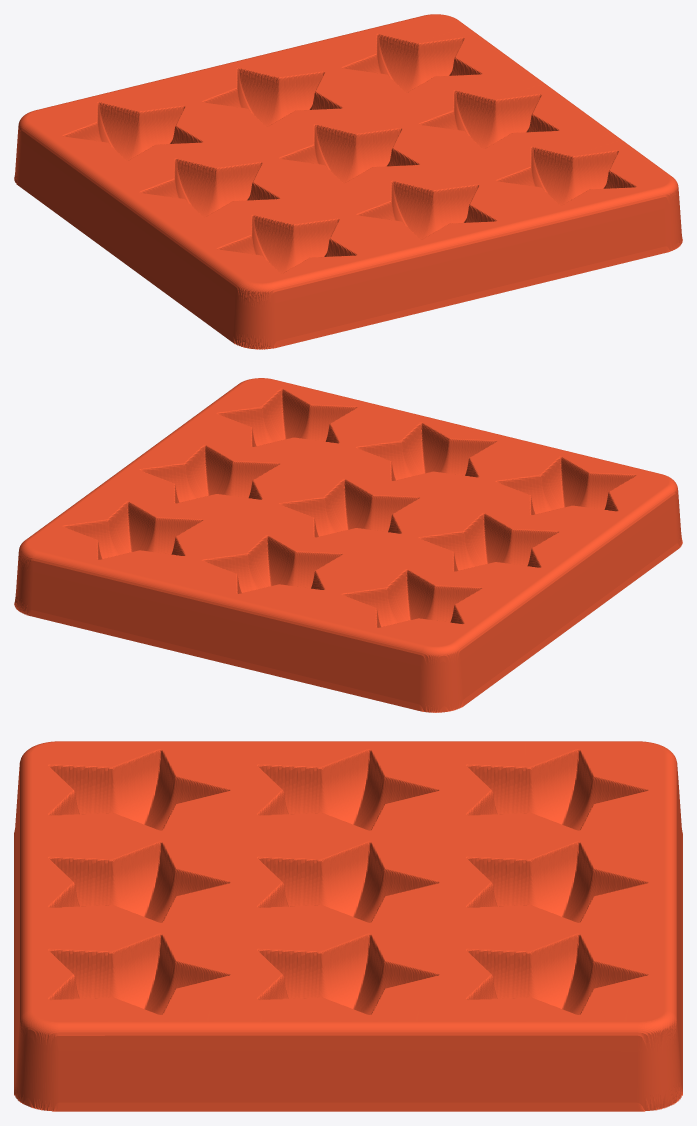
Rendered from mold.glb.
3 views of the same model, one above another, from view 1: azimuth 30°, elevation 25°; view 2: azimuth 150°, elevation 25°; view 3: azimuth 270°, elevation 25° (orthographic). The views are drawn at different scales.
Parts seen in each view (by area): view 1: geometry_0; view 2: geometry_0; view 3: geometry_0.
Part boxes in pixels (bbox=[...]): geometry_0: bbox=[14, 14, 682, 349]; geometry_0: bbox=[14, 378, 682, 712]; geometry_0: bbox=[14, 741, 682, 1111].
Size of the model in its own units: 0.1402 by 0.0182 by 0.1345.
